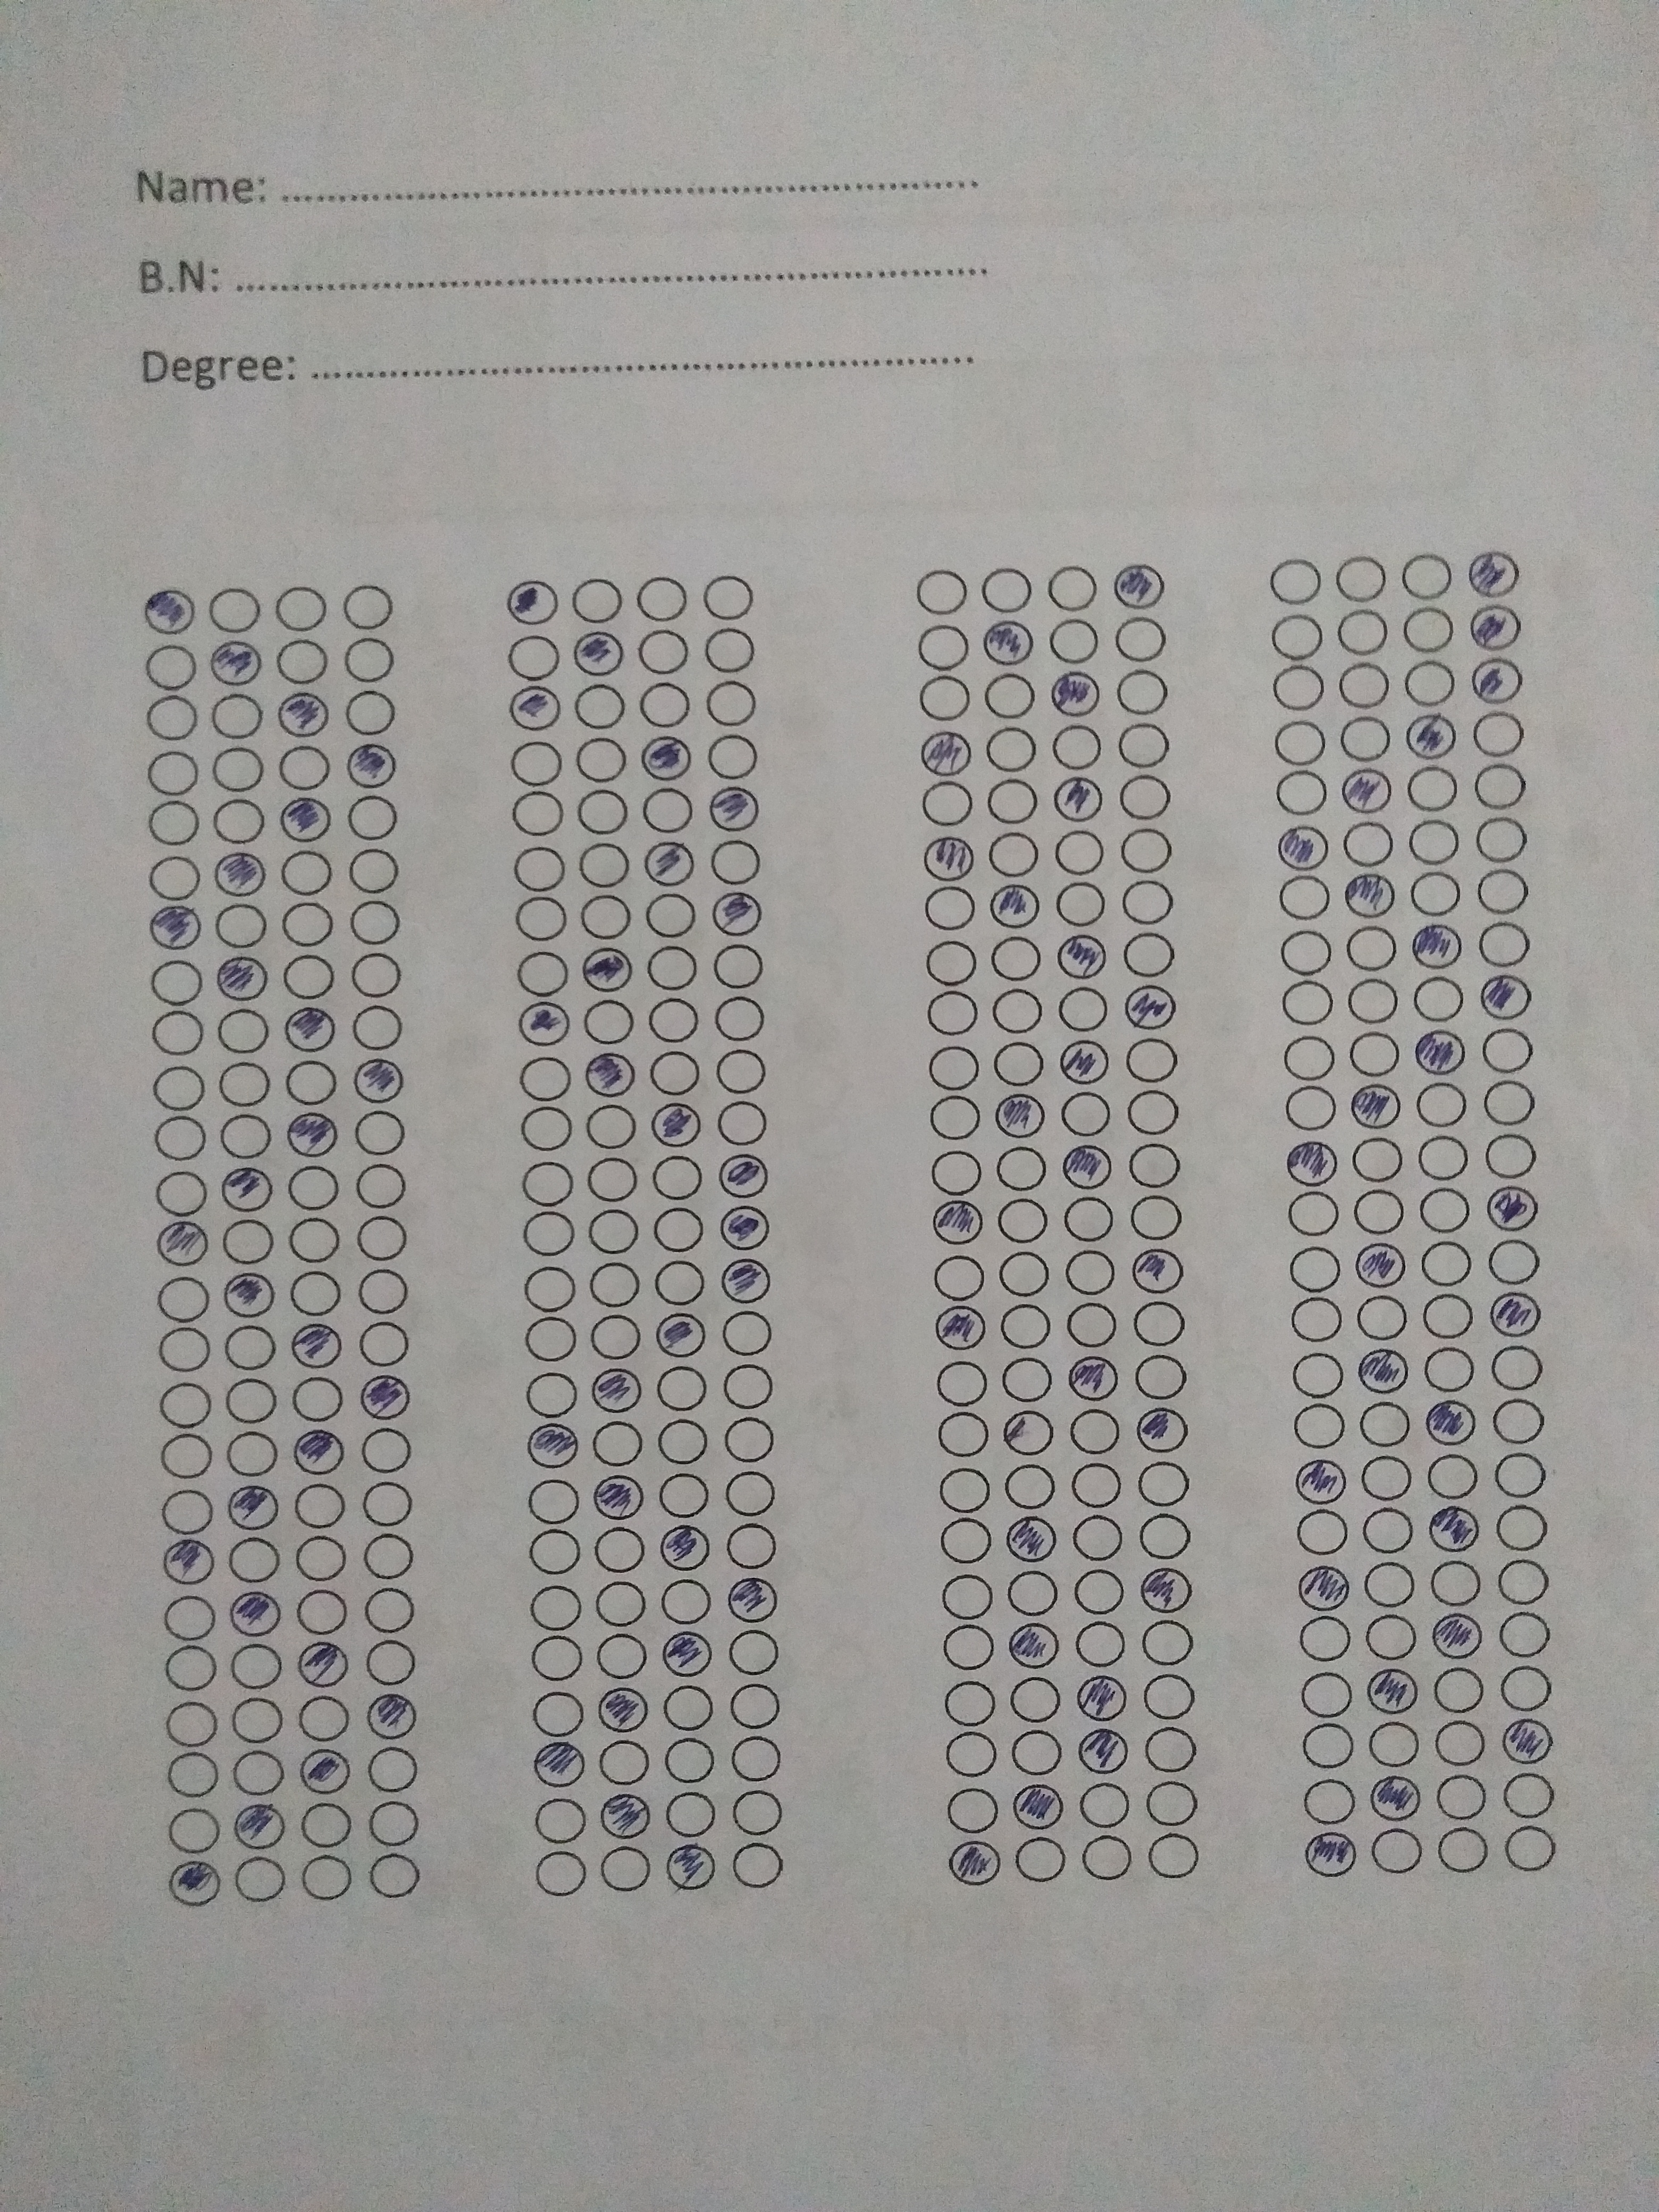not-c: (338, 578, 399, 632), (274, 582, 333, 634), (207, 691, 267, 744), (345, 899, 404, 951), (213, 1007, 272, 1059), (227, 1642, 286, 1695), (566, 573, 626, 625), (143, 850, 204, 900), (530, 1796, 591, 1846), (277, 953, 340, 1001), (152, 1271, 209, 1324), (361, 1585, 418, 1637), (291, 1585, 349, 1637), (148, 1062, 207, 1113), (160, 1700, 221, 1749), (354, 1214, 411, 1264), (221, 1374, 279, 1425), (364, 1797, 422, 1848), (636, 679, 694, 730), (660, 1684, 718, 1735), (533, 1848, 591, 1898), (143, 690, 202, 738), (275, 848, 335, 897), (216, 1061, 275, 1109), (284, 1163, 343, 1212), (153, 1325, 213, 1374), (160, 1592, 220, 1641), (516, 1054, 575, 1103), (152, 1381, 213, 1428), (342, 634, 399, 683), (284, 1059, 342, 1108), (162, 1644, 220, 1693), (298, 1801, 355, 1850), (298, 1853, 355, 1902), (230, 1855, 288, 1904), (589, 1526, 647, 1575), (206, 585, 265, 632), (274, 637, 333, 685), (207, 745, 267, 792), (145, 799, 204, 846), (148, 958, 207, 1005), (148, 1010, 207, 1057), (282, 1216, 342, 1263), (288, 1270, 347, 1317), (155, 1433, 214, 1480), (575, 841, 634, 888), (343, 686, 396, 738), (634, 573, 688, 624), (725, 1521, 779, 1571), (528, 1526, 582, 1576), (211, 798, 267, 846), (281, 900, 336, 949), (357, 1320, 413, 1369), (227, 1534, 282, 1583), (361, 1533, 416, 1581), (704, 679, 760, 728), (512, 845, 568, 894), (708, 836, 763, 885), (512, 895, 568, 944), (647, 1049, 702, 1097), (584, 1103, 640, 1151), (648, 1155, 704, 1204), (528, 1583, 584, 1632), (728, 1733, 784, 1782), (732, 1787, 788, 1836), (213, 902, 270, 949), (350, 1005, 408, 1052), (289, 1376, 347, 1423), (223, 1430, 281, 1477), (160, 1486, 218, 1533), (166, 1808, 223, 1855), (570, 683, 627, 730), (643, 944, 701, 991), (728, 1843, 786, 1890), (634, 629, 694, 674), (660, 1792, 720, 1838), (704, 625, 756, 676), (1068, 1407, 1121, 1458), (352, 1109, 406, 1158), (532, 1688, 586, 1737), (598, 1846, 652, 1895), (275, 745, 331, 792), (352, 1163, 408, 1211), (223, 1324, 279, 1371), (357, 1426, 413, 1474), (293, 1534, 349, 1581), (230, 1696, 286, 1743), (511, 789, 566, 836), (643, 892, 699, 939), (518, 1104, 573, 1151), (523, 1266, 579, 1313), (657, 1472, 713, 1519), (528, 1634, 584, 1681), (505, 634, 563, 679), (218, 1219, 277, 1263), (714, 1047, 765, 1097), (349, 846, 401, 895), (298, 1693, 350, 1742), (580, 894, 633, 942), (1119, 721, 1171, 770), (918, 676, 971, 725), (1115, 667, 1168, 716), (1047, 617, 1100, 665), (981, 566, 1033, 615), (1046, 564, 1098, 613), (1121, 826, 1173, 874), (927, 1042, 979, 1090), (1058, 982, 1110, 1031), (1054, 881, 1107, 930), (1127, 1141, 1180, 1190), (1065, 1299, 1117, 1348), (932, 1254, 985, 1303), (1063, 1247, 1115, 1296), (997, 1197, 1049, 1245), (941, 1569, 993, 1618), (939, 1515, 992, 1564), (1140, 1510, 1192, 1559), (939, 1465, 992, 1514), (1002, 1407, 1054, 1456), (1000, 1301, 1053, 1350), (1147, 1831, 1199, 1879), (946, 1785, 999, 1834), (1079, 1780, 1131, 1829), (945, 1677, 997, 1726), (1143, 1672, 1195, 1721), (943, 1622, 995, 1670), (1506, 1825, 1558, 1874), (1436, 1825, 1488, 1874), (1504, 1770, 1556, 1818), (1303, 1778, 1356, 1827), (1370, 1827, 1422, 1876), (1080, 1832, 1133, 1881), (1014, 1834, 1066, 1883), (1298, 1615, 1351, 1663), (1499, 1609, 1551, 1658), (1419, 1238, 1471, 1287), (1488, 1237, 1540, 1285), (1359, 1399, 1412, 1447), (1427, 1451, 1480, 1500), (1297, 1507, 1349, 1555), (1293, 1294, 1345, 1343), (1356, 1292, 1408, 1341), (1422, 1291, 1474, 1339), (1293, 1350, 1345, 1399), (1485, 1130, 1537, 1179), (1347, 977, 1399, 1026), (1413, 974, 1466, 1022), (1349, 1029, 1401, 1078), (1284, 1085, 1337, 1134), (1417, 1080, 1469, 1129), (1352, 1136, 1405, 1184), (1478, 920, 1530, 968), (1403, 604, 1455, 653), (1474, 761, 1527, 810), (1337, 662, 1389, 711), (1276, 768, 1328, 817), (1338, 714, 1391, 763), (1274, 718, 1326, 766), (1406, 763, 1459, 812), (1342, 819, 1394, 867), (1476, 813, 1528, 862), (152, 1115, 206, 1162), (218, 1113, 272, 1160), (153, 1169, 207, 1216), (701, 575, 755, 622), (704, 732, 758, 779), (573, 735, 627, 782), (509, 740, 563, 787), (711, 942, 765, 989), (647, 998, 701, 1045), (521, 1160, 575, 1207), (523, 1211, 577, 1258), (653, 1259, 708, 1306), (525, 1317, 579, 1364), (525, 1372, 579, 1420), (655, 1420, 709, 1467), (526, 1477, 580, 1524), (594, 1580, 648, 1627), (725, 1629, 779, 1676), (727, 1681, 781, 1728), (662, 1740, 716, 1787), (166, 1752, 221, 1797), (514, 949, 570, 995), (713, 995, 769, 1040), (594, 1634, 650, 1679), (347, 954, 404, 998), (917, 566, 967, 615), (931, 1148, 981, 1197), (922, 624, 972, 672), (1054, 826, 1105, 874), (922, 780, 972, 829), (986, 725, 1037, 773), (1051, 723, 1101, 772), (1127, 1036, 1178, 1085), (927, 989, 978, 1038), (992, 986, 1042, 1035), (990, 932, 1040, 981), (1122, 930, 1173, 979), (995, 1144, 1046, 1193), (1354, 1186, 1405, 1235), (999, 1249, 1049, 1298), (1063, 1195, 1114, 1244), (1072, 1514, 1122, 1562), (1070, 1460, 1121, 1508), (1140, 1458, 1190, 1507), (938, 1359, 988, 1407), (1002, 1353, 1053, 1402), (1147, 1778, 1197, 1827), (946, 1728, 997, 1777), (1147, 1724, 1197, 1773), (1436, 1771, 1486, 1820), (1303, 1723, 1354, 1771), (1431, 1559, 1481, 1608), (1291, 1242, 1342, 1291), (1495, 1447, 1546, 1496), (1363, 1505, 1413, 1554), (1361, 1453, 1412, 1501), (1497, 1501, 1547, 1550), (1424, 1345, 1474, 1393), (1298, 1400, 1349, 1449), (1493, 1395, 1544, 1444), (1288, 1190, 1338, 1238), (1481, 1024, 1532, 1073), (1419, 1134, 1469, 1183), (1283, 977, 1333, 1026), (1405, 660, 1455, 709), (1272, 611, 1323, 660), (1349, 923, 1399, 972), (1269, 556, 1319, 604), (1410, 817, 1460, 866), (1279, 874, 1330, 923), (1412, 867, 1462, 916), (146, 749, 199, 796), (368, 1853, 420, 1900), (577, 787, 629, 834), (641, 787, 694, 834), (591, 1313, 643, 1360), (721, 1310, 774, 1357), (721, 1362, 774, 1409), (591, 1421, 643, 1468), (723, 1416, 775, 1463), (660, 1578, 713, 1625), (599, 1742, 652, 1789), (985, 671, 1037, 718), (1114, 617, 1166, 664), (986, 779, 1039, 826), (1119, 775, 1171, 822), (1126, 1089, 1178, 1136), (925, 939, 978, 986), (1121, 880, 1173, 927), (986, 831, 1039, 878), (929, 1094, 981, 1141), (1061, 1090, 1114, 1137), (1073, 1568, 1126, 1615), (936, 1411, 988, 1458), (1134, 1353, 1187, 1400), (1009, 1728, 1061, 1775), (1009, 1676, 1061, 1723), (1300, 1670, 1352, 1717), (1363, 1562, 1415, 1609), (1364, 1615, 1417, 1662), (1500, 1663, 1553, 1710), (1420, 1190, 1473, 1237), (1337, 608, 1389, 655), (1274, 665, 1326, 712), (1478, 866, 1530, 913), (146, 644, 200, 690), (232, 1750, 286, 1796), (586, 1209, 640, 1254), (723, 1470, 777, 1515), (291, 1482, 347, 1526), (368, 1745, 418, 1792), (995, 1038, 1046, 1085), (925, 885, 976, 932), (1134, 1299, 1185, 1346), (1131, 1195, 1182, 1242), (1007, 1569, 1058, 1616), (1006, 1461, 1056, 1508), (1075, 1618, 1126, 1665), (1141, 1618, 1192, 1665), (1434, 1721, 1485, 1768), (1370, 1721, 1420, 1768), (1499, 1557, 1549, 1604), (1434, 1665, 1485, 1712), (1492, 1343, 1542, 1390), (1284, 1033, 1335, 1080), (1485, 1078, 1535, 1125), (1337, 554, 1387, 601), (1401, 554, 1452, 601), (1283, 927, 1333, 974), (345, 796, 397, 841), (582, 1000, 634, 1045), (586, 1157, 638, 1202), (589, 1261, 641, 1306), (655, 1366, 708, 1411), (361, 1482, 415, 1526), (357, 1268, 406, 1315), (1474, 711, 1523, 758), (653, 1207, 704, 1252), (718, 1101, 769, 1144)
taken-c: (166, 1857, 225, 1909), (1469, 599, 1523, 655), (1004, 1620, 1063, 1670), (505, 577, 561, 629), (1413, 1026, 1469, 1078), (514, 998, 572, 1049), (1354, 1345, 1412, 1395), (289, 1320, 343, 1372), (533, 1740, 587, 1792), (1073, 1670, 1127, 1723), (1467, 549, 1521, 601), (1370, 1773, 1424, 1825), (295, 1639, 350, 1689), (594, 1684, 650, 1735), (946, 1838, 1002, 1888), (1075, 1726, 1131, 1777), (1138, 1564, 1194, 1615), (1004, 1514, 1060, 1564), (979, 617, 1035, 667), (1469, 655, 1525, 705), (1478, 972, 1534, 1022), (1425, 1505, 1481, 1555), (636, 733, 694, 782), (218, 1270, 275, 1318), (917, 730, 974, 779), (1338, 766, 1396, 815), (366, 1691, 418, 1743), (1049, 669, 1101, 721), (1298, 1562, 1351, 1615), (145, 587, 199, 637), (275, 690, 329, 740), (284, 1003, 338, 1054), (711, 888, 765, 939), (221, 1163, 275, 1214), (227, 1482, 281, 1533), (662, 1629, 716, 1679), (1410, 921, 1464, 972), (1486, 1183, 1540, 1233), (207, 637, 263, 686), (279, 796, 335, 845), (641, 840, 697, 888), (153, 1219, 209, 1268), (291, 1428, 347, 1477), (232, 1801, 288, 1850), (596, 1792, 652, 1841), (589, 1367, 645, 1416), (718, 1204, 774, 1252), (1011, 1782, 1066, 1831), (1274, 826, 1330, 874), (1431, 1611, 1486, 1660), (1302, 1831, 1358, 1879), (1065, 1355, 1122, 1402), (727, 1575, 779, 1625), (1366, 1665, 1419, 1716), (148, 904, 202, 953), (216, 953, 270, 1001), (582, 948, 636, 996), (357, 1374, 411, 1423), (162, 1536, 216, 1585), (300, 1747, 354, 1796), (659, 1524, 713, 1573), (592, 1472, 647, 1521), (934, 1303, 988, 1352), (931, 1198, 985, 1247), (1061, 1144, 1115, 1193), (1054, 932, 1108, 981), (986, 881, 1040, 930), (1112, 563, 1166, 611), (1349, 1083, 1403, 1132), (1488, 1291, 1542, 1339), (1295, 1456, 1349, 1505), (507, 685, 563, 732), (525, 1423, 580, 1470), (716, 1258, 772, 1305), (1134, 1406, 1190, 1453), (920, 834, 976, 881), (1403, 712, 1459, 759), (214, 850, 267, 899), (352, 1055, 404, 1104), (584, 1050, 636, 1099), (650, 1101, 702, 1150), (718, 1153, 770, 1202), (230, 1588, 282, 1637), (666, 1843, 718, 1892), (1060, 1036, 1112, 1085), (1354, 1240, 1406, 1289), (1502, 1717, 1554, 1766), (572, 629, 626, 676), (1124, 984, 1178, 1031), (1284, 1141, 1340, 1186), (1425, 1397, 1476, 1446), (347, 742, 399, 789), (286, 1111, 338, 1158), (708, 784, 760, 831), (655, 1312, 708, 1359), (993, 1092, 1046, 1139), (1344, 871, 1396, 918), (1053, 775, 1103, 822), (1133, 1249, 1185, 1294)
